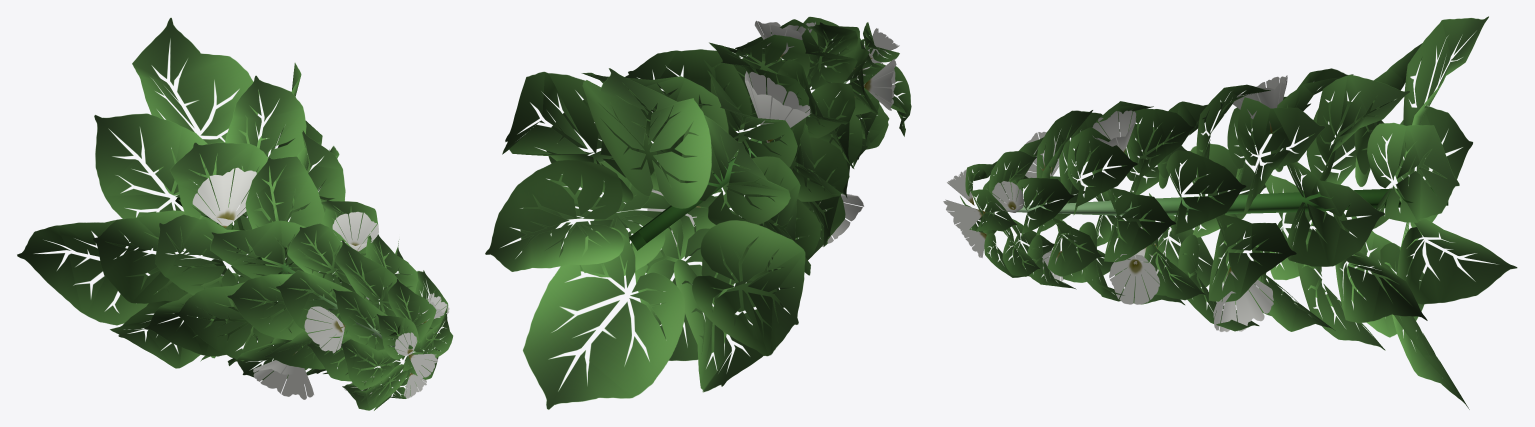
The model's file is Pl_Flower.glb.
The picture shows the model from 3 angles, left to right: view 1: azimuth 30°, elevation 25°; view 2: azimuth 150°, elevation 25°; view 3: azimuth 270°, elevation 25°; orthographic projection. The views are drawn at different scales.
Parts seen in each view (by area): view 1: white_flower; view 2: white_flower; view 3: white_flower.
Boxes of the visible parts, left/top/right/bottom form: white_flower: left=17, top=17, right=453, bottom=410; white_flower: left=485, top=16, right=911, bottom=409; white_flower: left=943, top=16, right=1517, bottom=409.
Size of the model in its own units: 1.37 by 1.5 by 2.16.
1 material, 1 textured.
